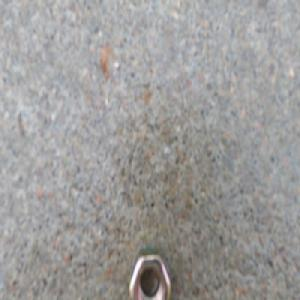Nut: (128, 245, 172, 300)
